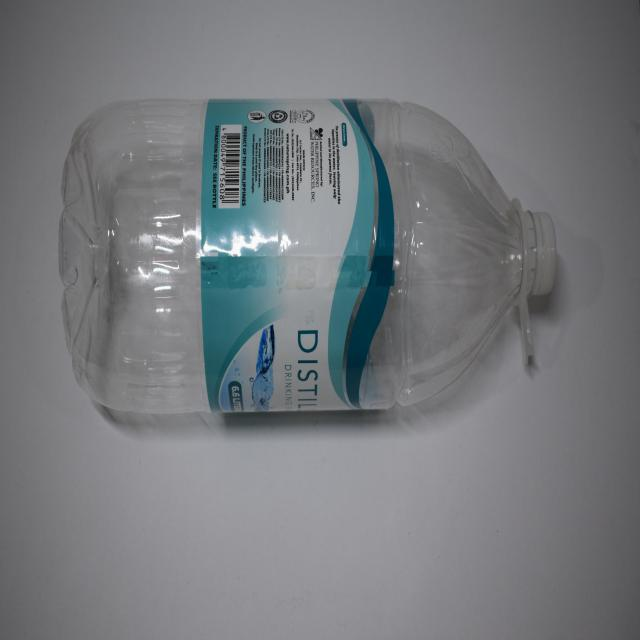plastic: (53, 88, 560, 430)
